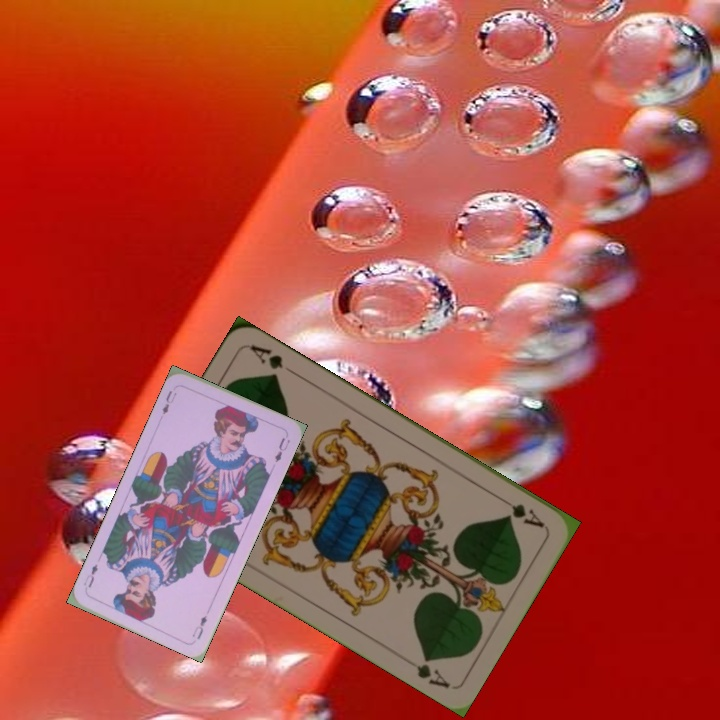EU: (188, 611, 210, 642), (158, 386, 179, 417)
GA: (495, 493, 548, 531)
